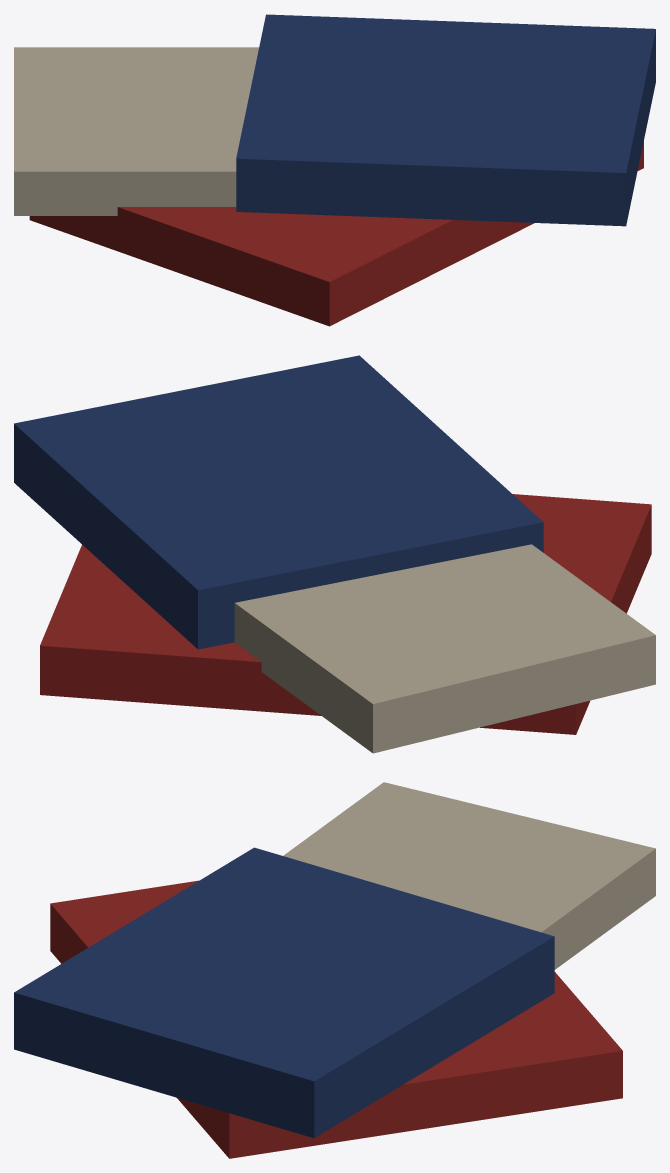
File: clutter_clothes.glb
3 renders of one model, top to bottom at view 1: azimuth 30°, elevation 25°; view 2: azimuth 150°, elevation 25°; view 3: azimuth 270°, elevation 25°, orthographic. The views are drawn at different scales.
Visible parts, largest first — view 1: clutter_clothes; view 2: clutter_clothes; view 3: clutter_clothes.
Boxes of the visible parts, x1,y1,x2,y2 form: clutter_clothes: [14, 14, 655, 326]; clutter_clothes: [14, 355, 655, 753]; clutter_clothes: [14, 782, 655, 1158].
Size of the model in its own units: 0.7191 by 0.11 by 0.613.
